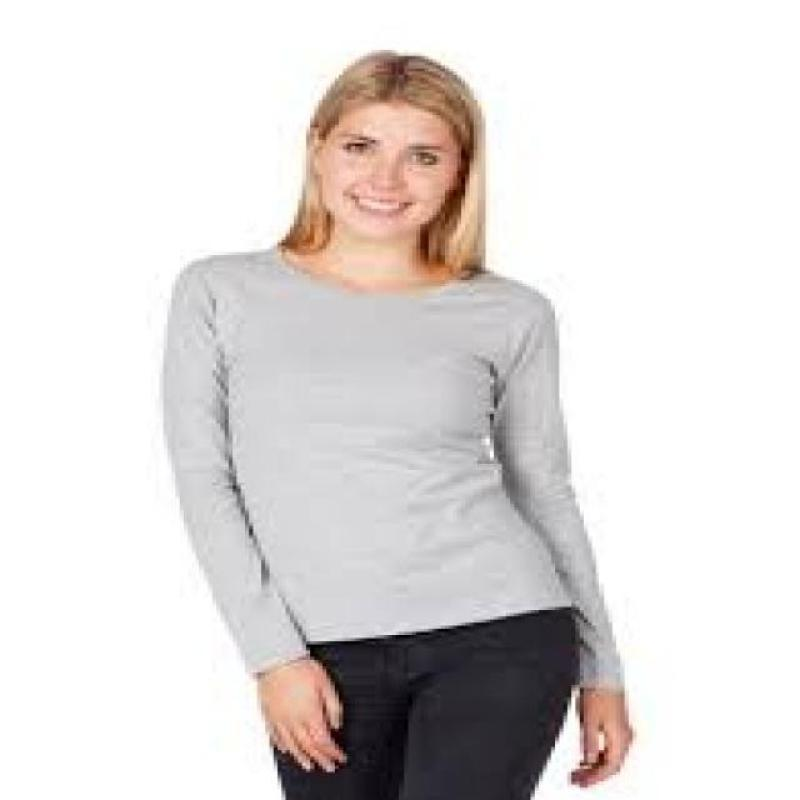long sleeve shirt: (162, 248, 628, 696)
trousers: (270, 603, 582, 800)
